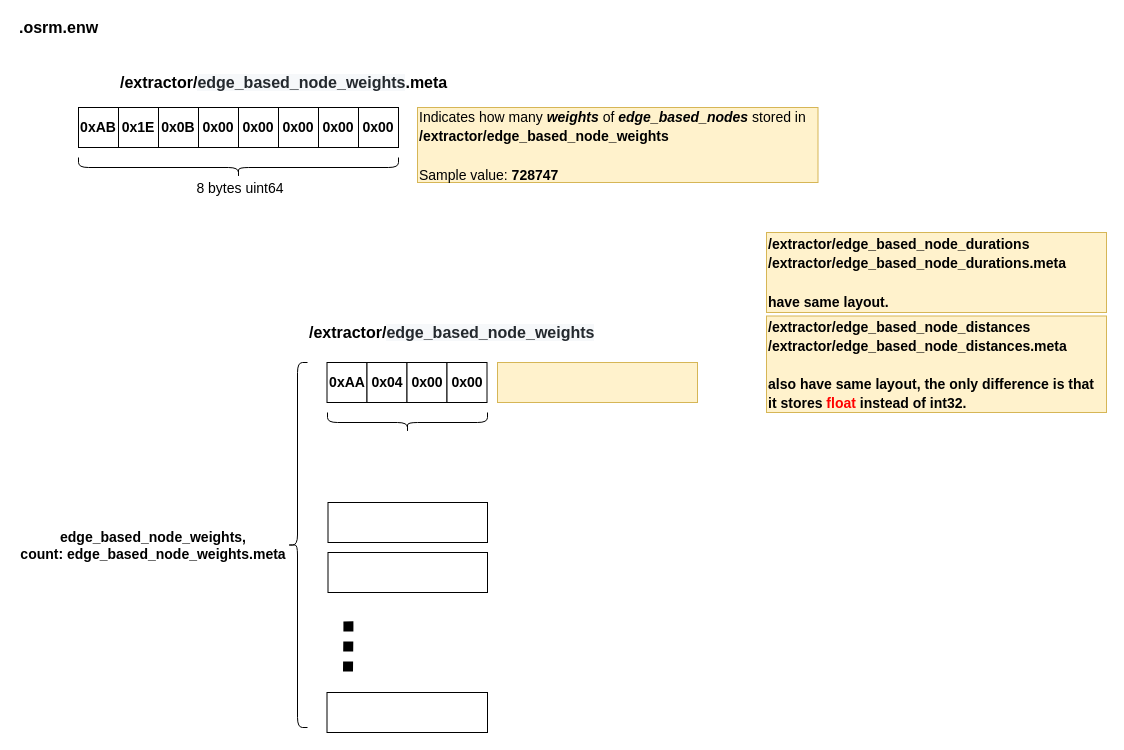
Some shapes in this 1124 by 750 pixel diagram are drawn without their labels. Here are the shapes that lost their labels. From the top down, the centre of each, then its label:
At (597,382): "Sample values: - weight: 1194 ( unit: 100ms )".
At (407,422): "4 bytes int32 weight".
